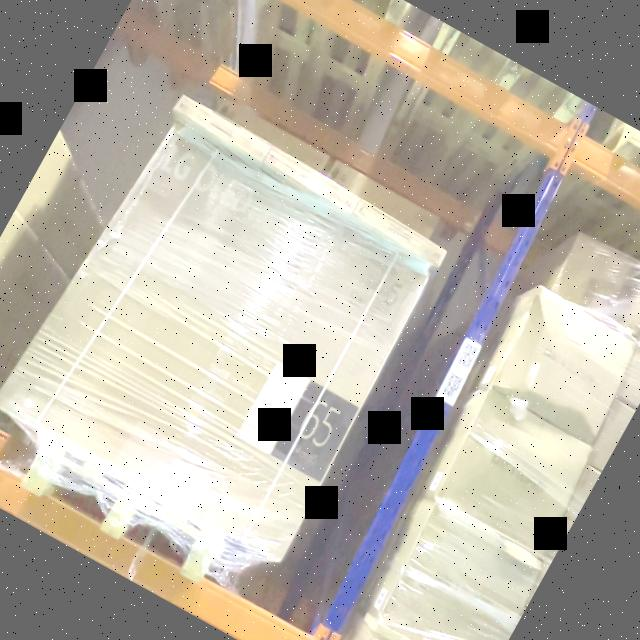box: (0, 131, 425, 558), (169, 94, 273, 167), (353, 196, 453, 266), (264, 146, 362, 213)
